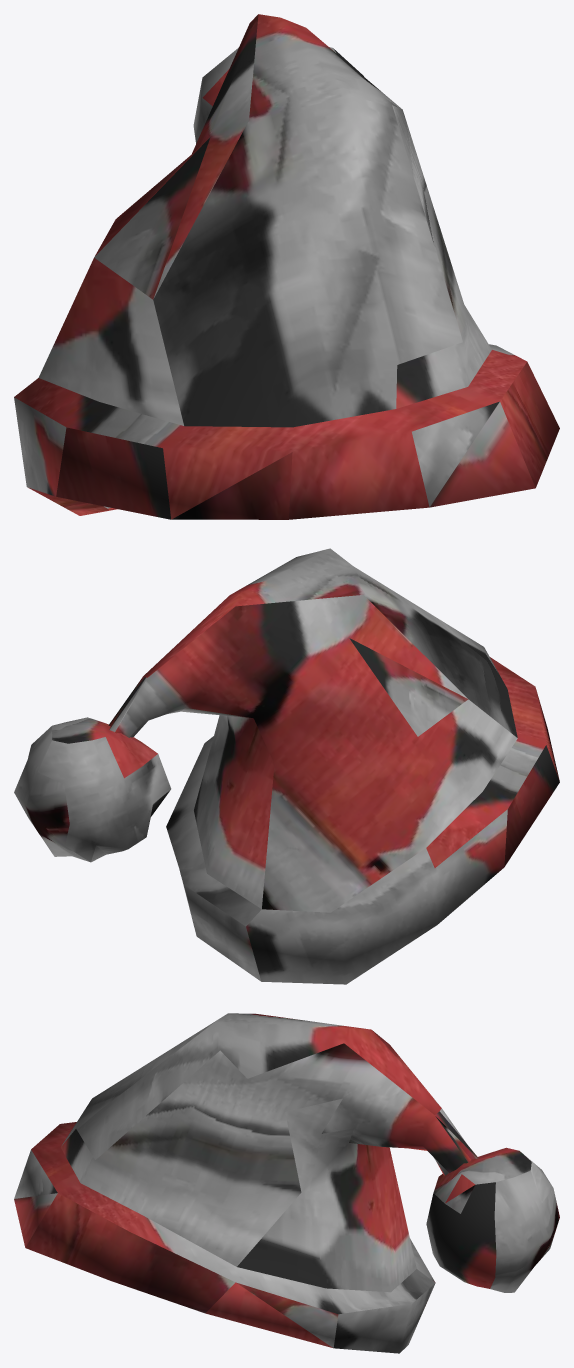
The model's file is luva.glb.
3 views of the same model, one above another, from view 1: azimuth 30°, elevation 25°; view 2: azimuth 150°, elevation 25°; view 3: azimuth 270°, elevation 25° (orthographic). The views are drawn at different scales.
Visible parts, largest first — view 1: Santa Hat; view 2: Santa Hat; view 3: Santa Hat.
Part boxes in pixels (x1,y1,x2,y2): Santa Hat: (14, 14, 559, 519); Santa Hat: (14, 548, 559, 984); Santa Hat: (14, 1013, 559, 1353).
Bounding box in the file's own units: 0.2419 × 0.2298 × 0.3348.
Materials: 1 (1 with a texture image).
